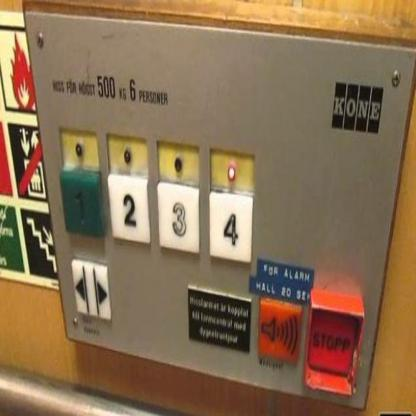1: (58, 163, 105, 243)
2: (105, 169, 152, 249)
3: (154, 174, 201, 254)
4: (207, 185, 254, 264)
open: (68, 250, 114, 326)
text_stop: (306, 305, 363, 380)
unknown: (256, 293, 302, 370)
